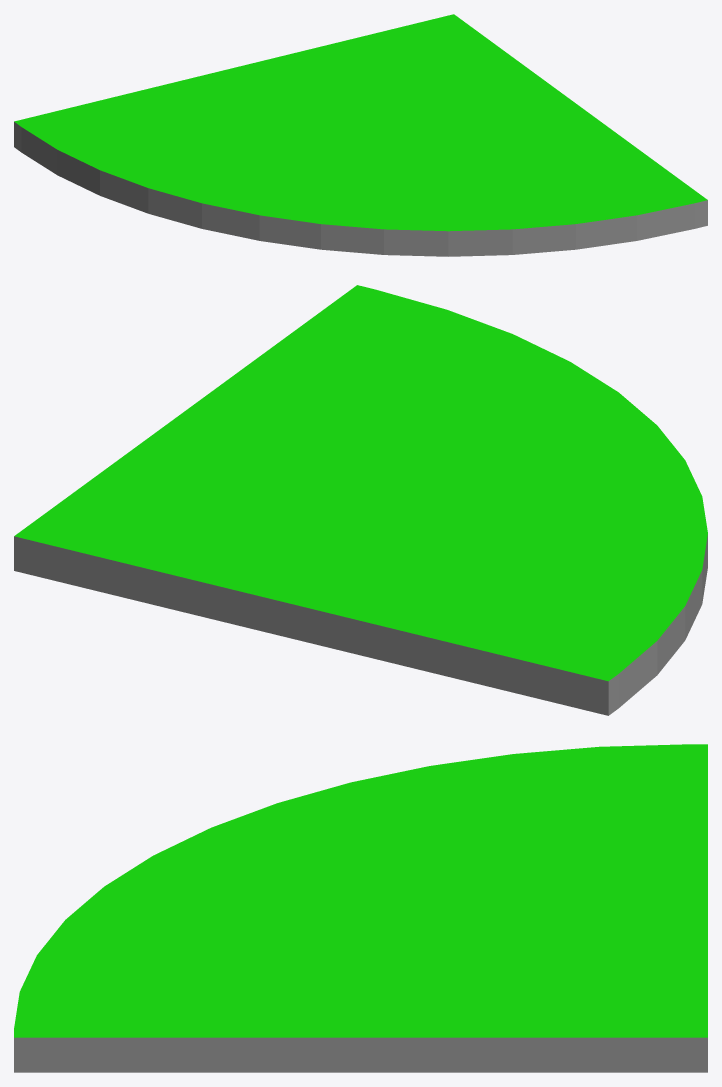
The picture shows the model from 3 angles, top to bottom: view 1: azimuth 30°, elevation 25°; view 2: azimuth 150°, elevation 25°; view 3: azimuth 270°, elevation 25°; orthographic projection. The views are drawn at different scales.
Parts seen in each view (by area): view 1: Cube.005; view 2: Cube.005; view 3: Cube.005.
Part boxes in pixels (box(x1,y1,x2,y2)): Cube.005: box(14, 14, 707, 256); Cube.005: box(14, 285, 707, 715); Cube.005: box(14, 744, 707, 1072).
Size of the model in its own units: 200 by 11.13 by 200.
